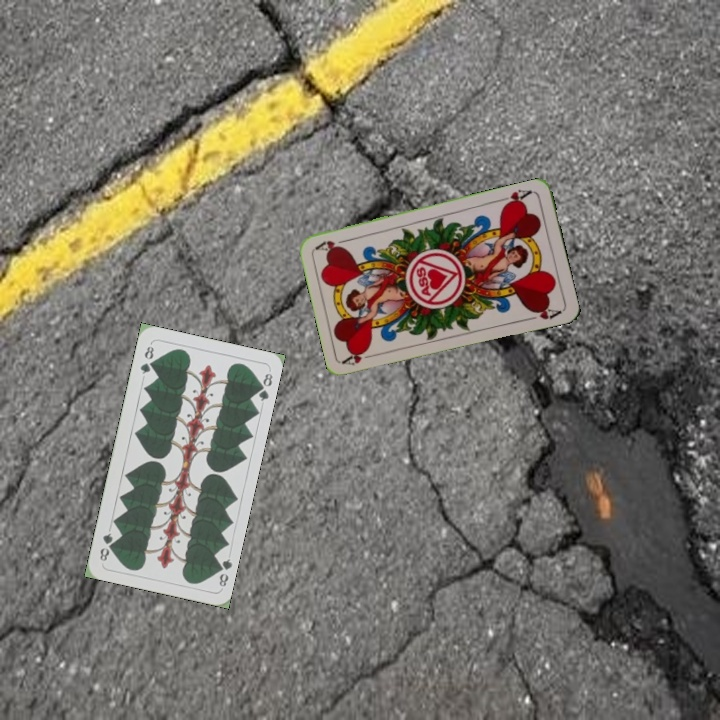G8: (212, 555, 234, 589), (136, 342, 156, 377)
HA: (496, 185, 536, 210), (340, 346, 380, 368)
